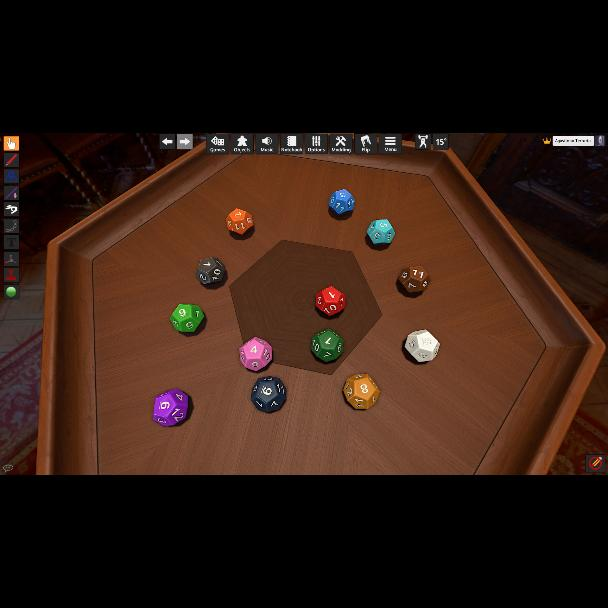d12: (153, 389, 189, 426), (251, 376, 287, 412), (344, 374, 378, 410), (404, 328, 440, 362), (239, 337, 271, 371), (312, 328, 342, 360), (172, 304, 204, 334), (316, 287, 344, 317), (196, 256, 224, 286), (398, 265, 427, 293), (227, 208, 253, 236), (366, 218, 392, 244), (328, 190, 354, 216)
